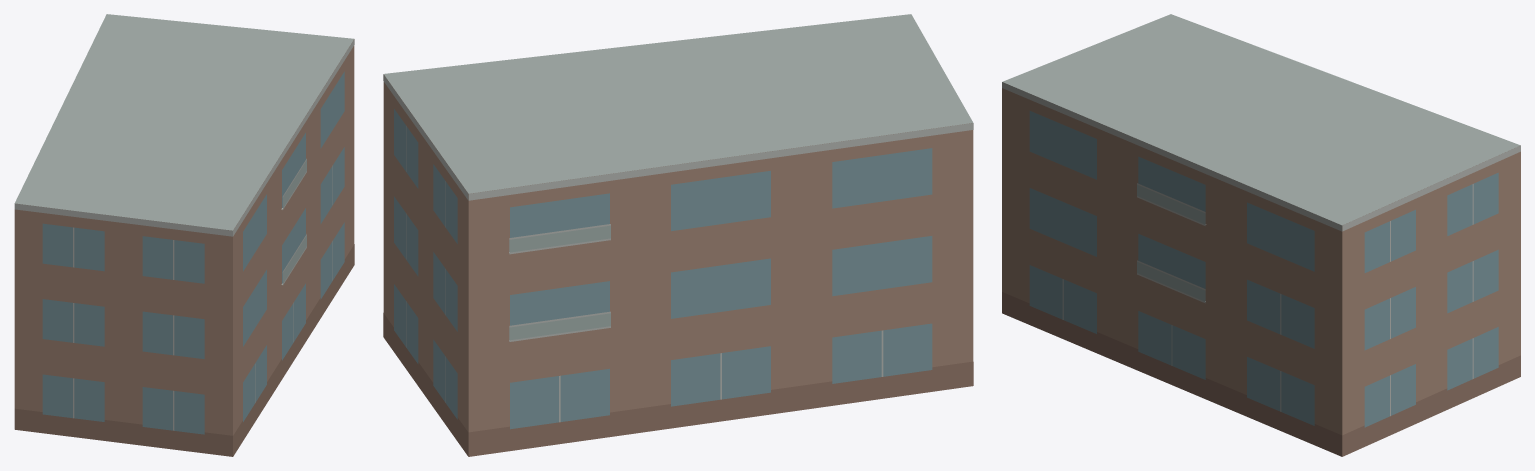
Rendered from survey-upis-32920809.glb.
3 views of the same model, side by side, from view 1: azimuth 30°, elevation 25°; view 2: azimuth 150°, elevation 25°; view 3: azimuth 270°, elevation 25° (orthographic). The views are drawn at different scales.
Parts seen in each view (by area): view 1: survey-upis-32920809.tmp; view 2: survey-upis-32920809.tmp; view 3: survey-upis-32920809.tmp.
Boxes of the visible parts, x1,y1,x2,y2 form: survey-upis-32920809.tmp: [14, 14, 354, 456]; survey-upis-32920809.tmp: [383, 14, 973, 456]; survey-upis-32920809.tmp: [1002, 14, 1520, 456].
Bounding box in the file's own units: 17.94 × 9.15 × 18.59.
